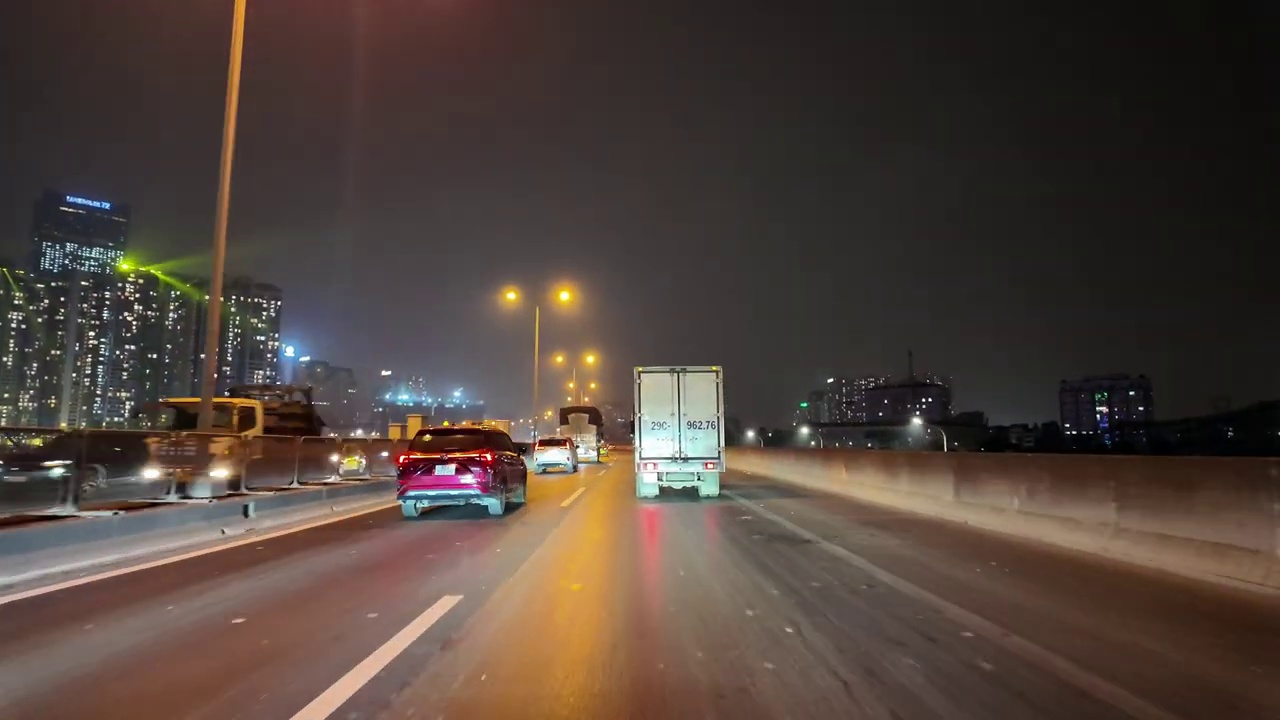acesa: (548, 281, 581, 312), (495, 283, 525, 312), (577, 347, 603, 372)
